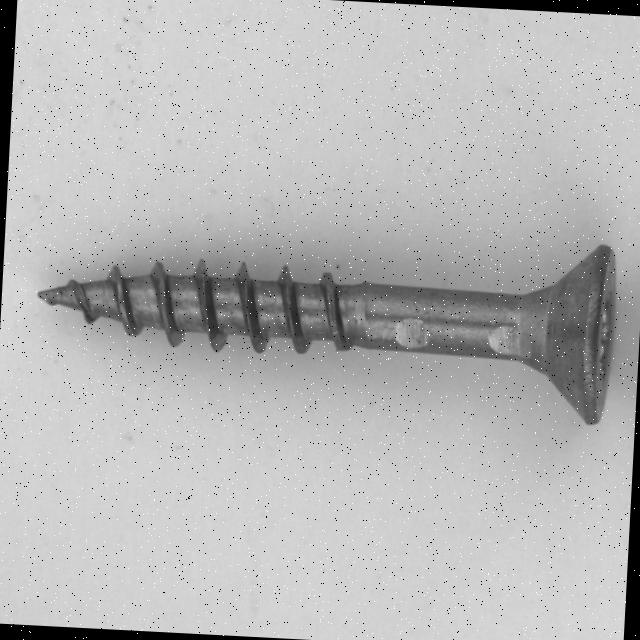scratch_neck: (484, 322, 536, 359), (390, 314, 436, 352)
